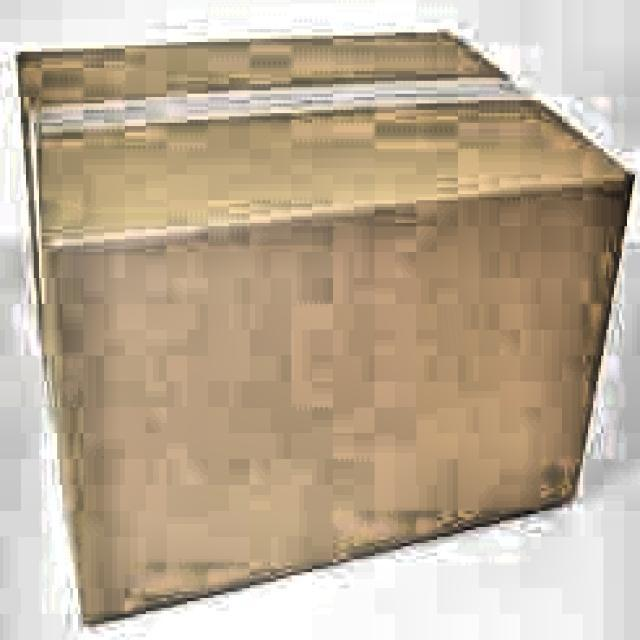cardboard: (13, 26, 635, 624)
